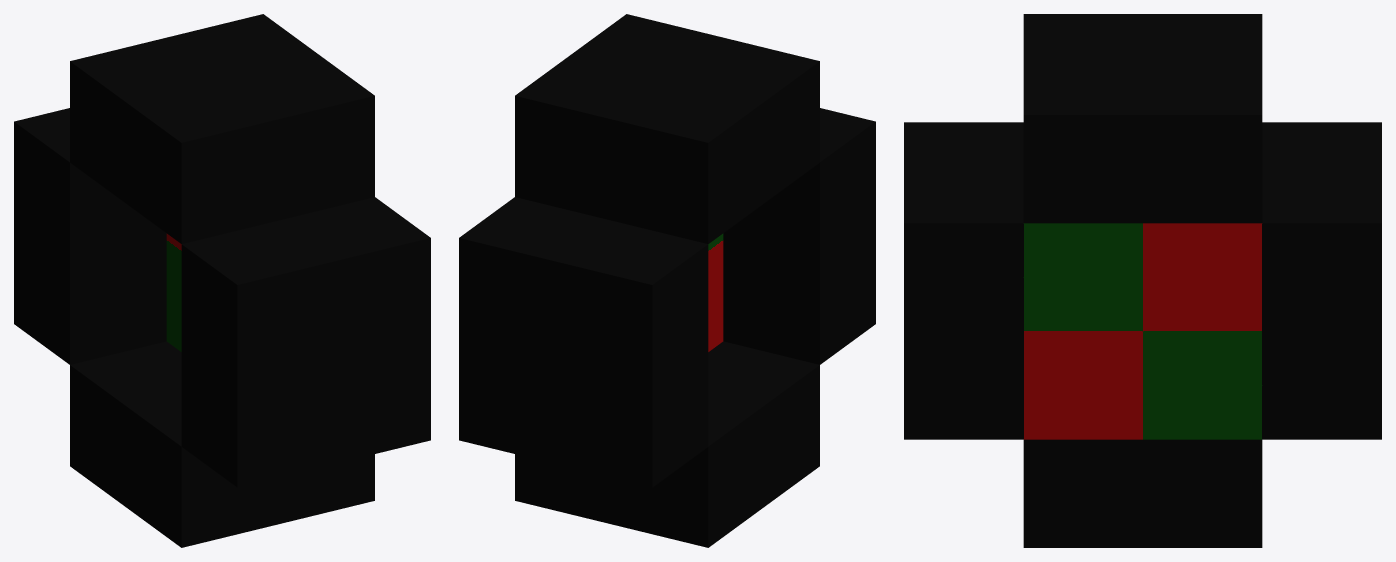
File: wheel_2.fbx
3 renders of one model, left to right at view 1: azimuth 30°, elevation 25°; view 2: azimuth 150°, elevation 25°; view 3: azimuth 270°, elevation 25°, orthographic. The views are drawn at different scales.
Visible parts, largest first — view 1: Matrix_12; view 2: Matrix_12; view 3: Matrix_12.
Part boxes in pixels (x1,y1,x2,y2): Matrix_12: [14, 14, 430, 547]; Matrix_12: [459, 14, 875, 547]; Matrix_12: [904, 14, 1381, 547].
Bounding box in the file's own units: 2 × 4 × 4.
Materials: 1 (1 with a texture image).
